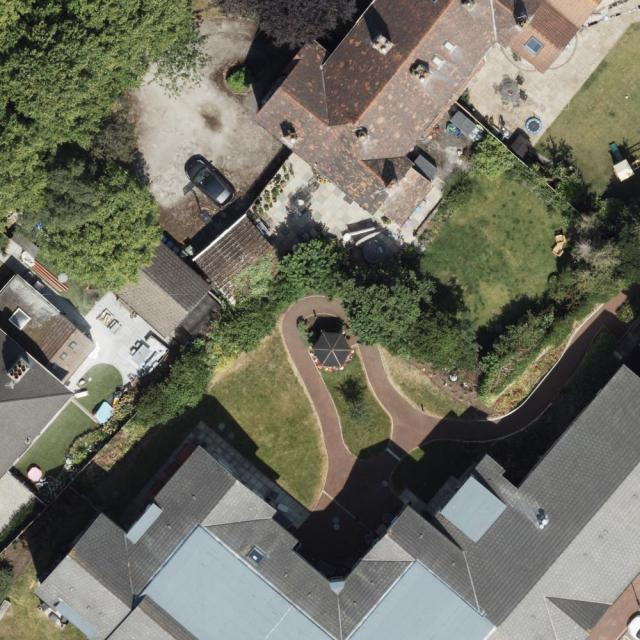roof: (31, 365, 640, 640), (256, 0, 607, 228), (0, 272, 99, 486), (109, 237, 215, 344)
skylight: (49, 339, 78, 370), (9, 305, 33, 331), (243, 545, 267, 569), (523, 36, 543, 57), (442, 38, 455, 53), (430, 56, 443, 67)
